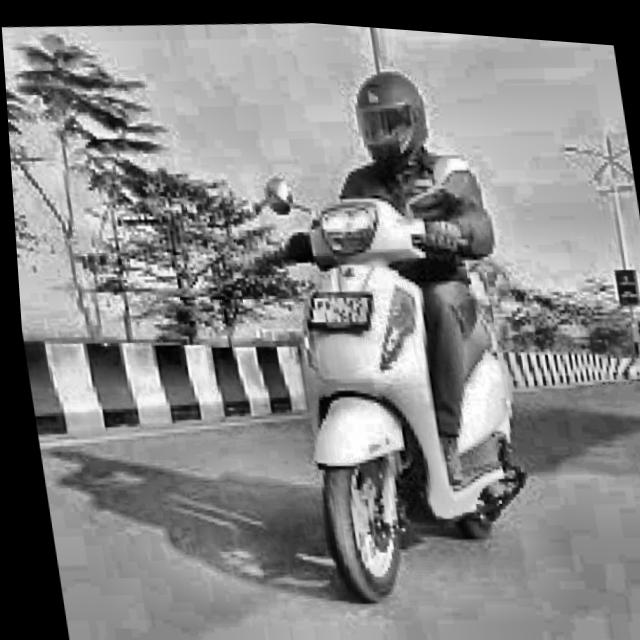motorcycle: (231, 145, 556, 615)
